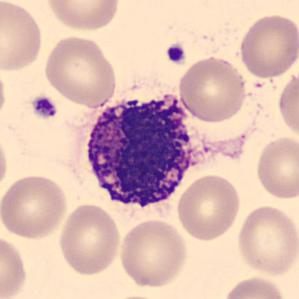Basophil: (76, 86, 217, 222)
Platelets: (29, 95, 59, 120), (163, 42, 187, 65)
RBC: (41, 34, 119, 107), (117, 216, 189, 290), (56, 201, 123, 277), (176, 55, 249, 124), (234, 202, 298, 278), (0, 172, 70, 240), (174, 172, 242, 242), (237, 11, 298, 80), (0, 0, 45, 74), (253, 134, 298, 201), (44, 0, 123, 32), (0, 232, 29, 299), (220, 274, 289, 299), (275, 69, 299, 140), (0, 129, 11, 195), (0, 65, 8, 124), (104, 293, 168, 299)
